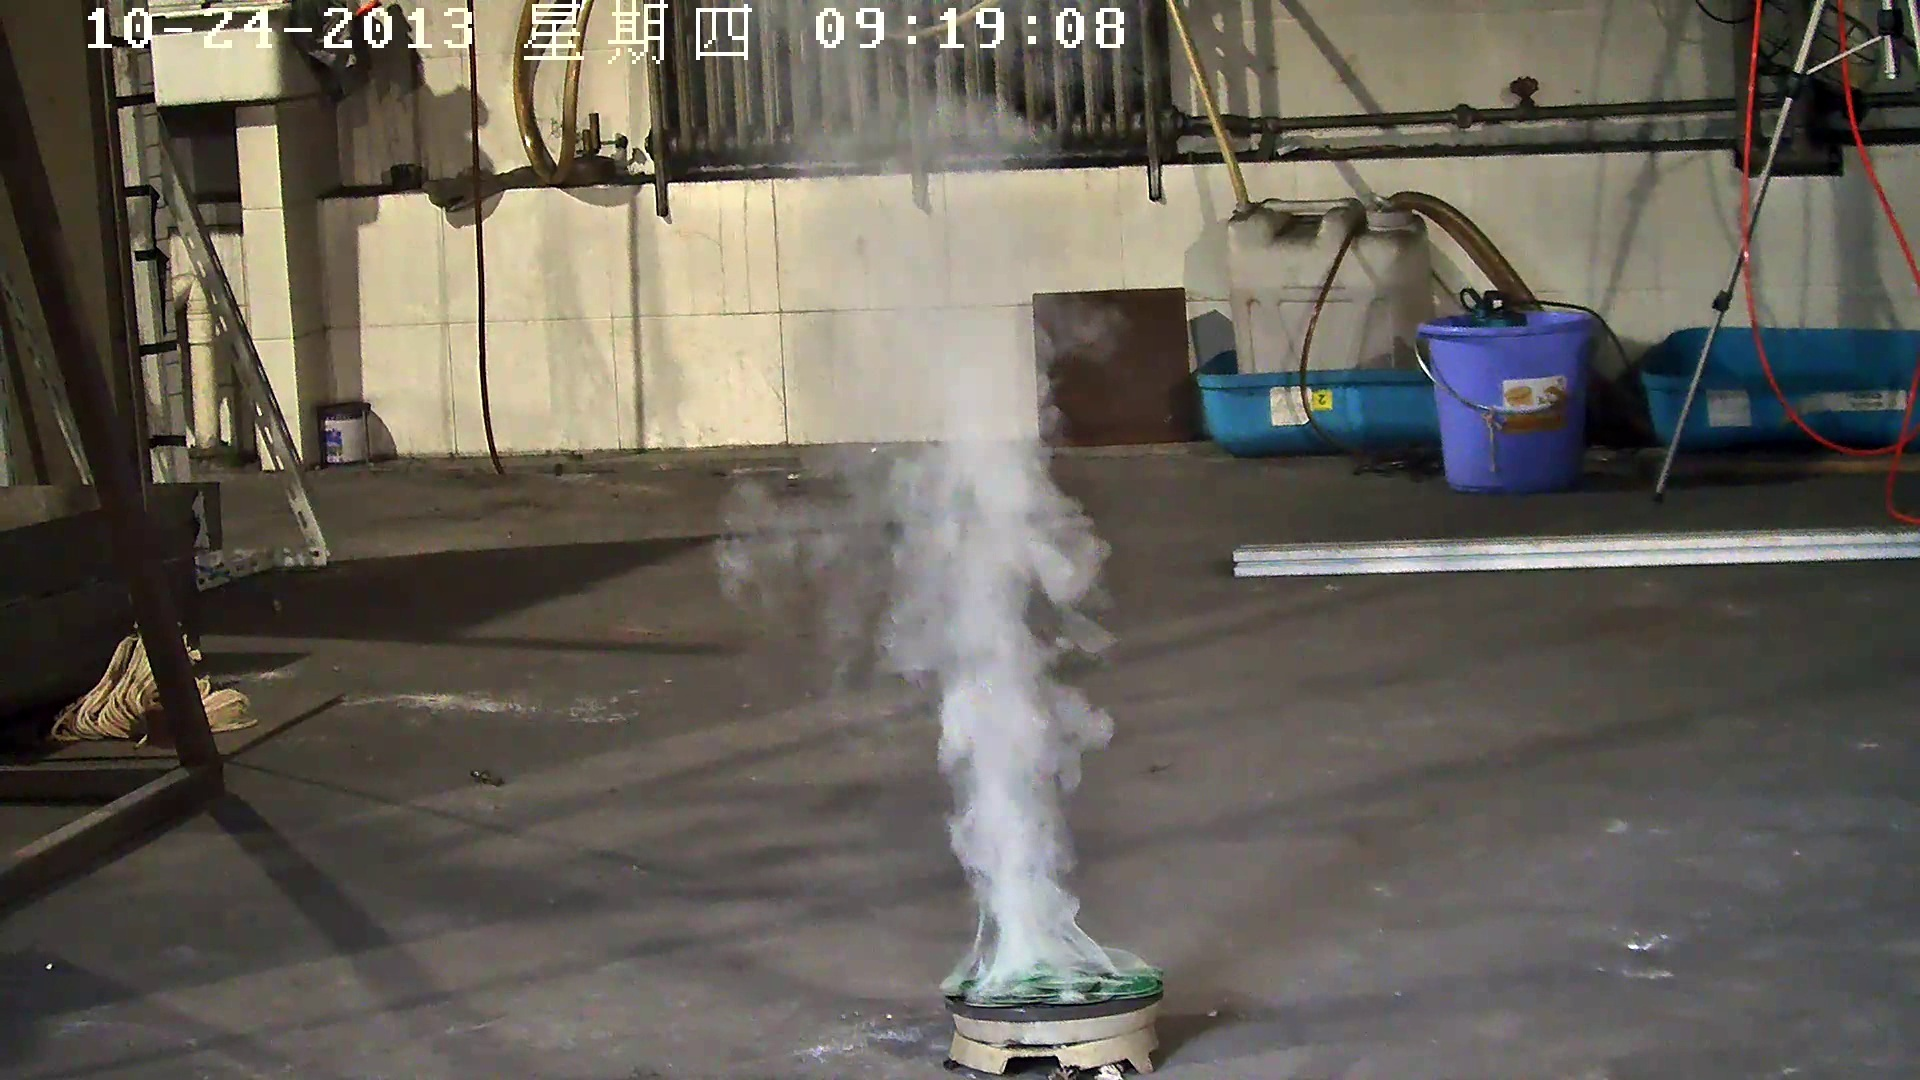smoke: (727, 86, 1203, 993)
